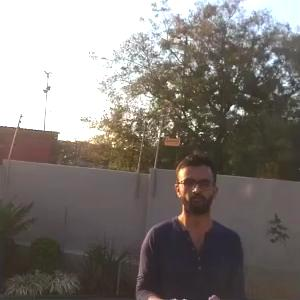follow: (131, 148, 249, 298)
